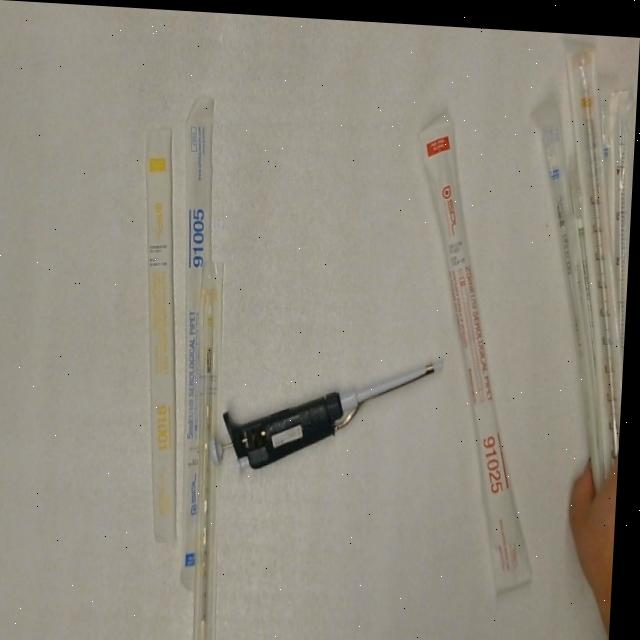Serelogical Pipet 1 mL - Sealed: (127, 121, 199, 545), (187, 253, 243, 640)
Serelogical Pipet 10 mL - Sealed: (549, 29, 640, 456)
Serelogical Pipet 25 mL - Sealed: (399, 98, 559, 591)
Serelogical Pipet 5 mL - Sealed: (524, 104, 624, 488), (168, 87, 236, 591)
Single Channel Pipettor: (211, 339, 454, 477)
